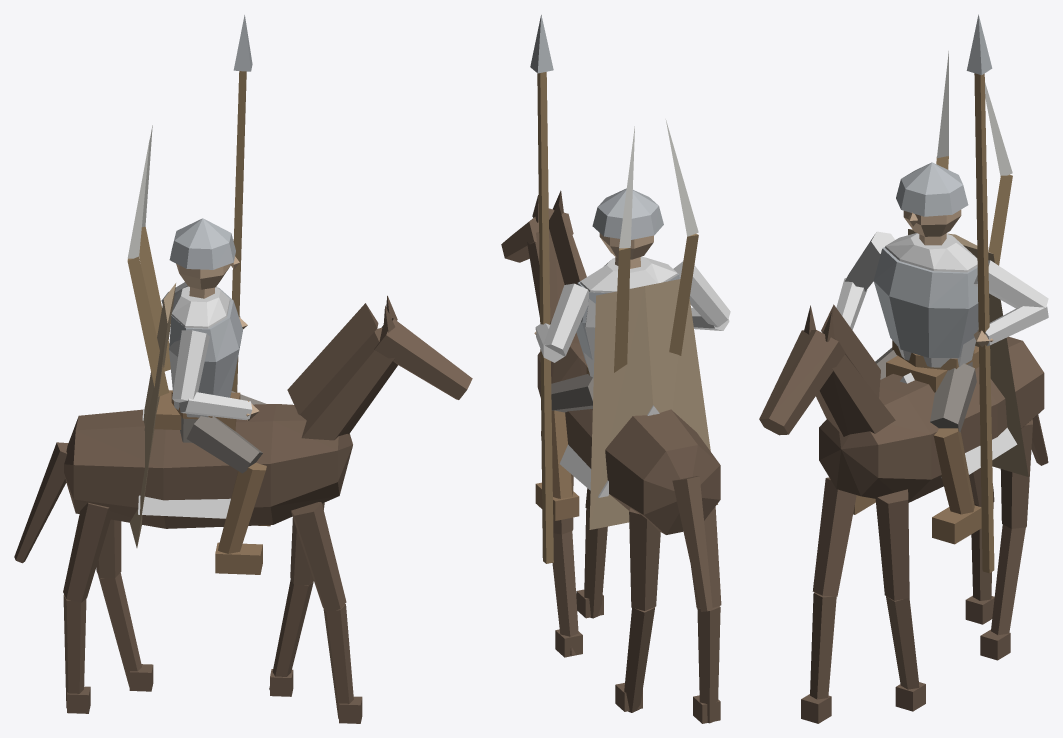
The model's file is winged-hussar.glb.
3 views of the same model, side by side, from view 1: azimuth 30°, elevation 25°; view 2: azimuth 150°, elevation 25°; view 3: azimuth 270°, elevation 25° (orthographic). The views are drawn at different scales.
Parts seen in each view (by area): view 1: LOD0; view 2: LOD0; view 3: LOD0.
Part boxes in pixels (<box>): LOD0: <box>14,15,472,723</box>; LOD0: <box>501,15,730,723</box>; LOD0: <box>759,14,1048,723</box>.
Size of what is drawn, in the model's own units: 0.9264 by 1.75 by 0.6671.
